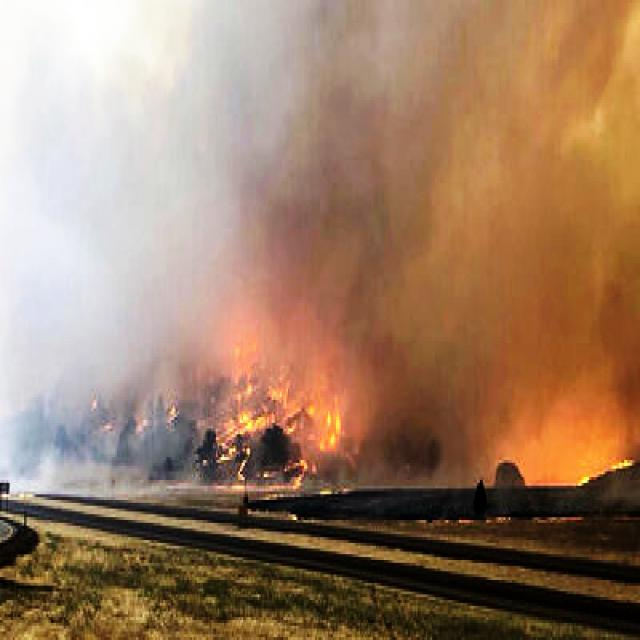api: (578, 452, 633, 493), (322, 396, 353, 456)
asap: (286, 1, 640, 510), (2, 1, 274, 504)
